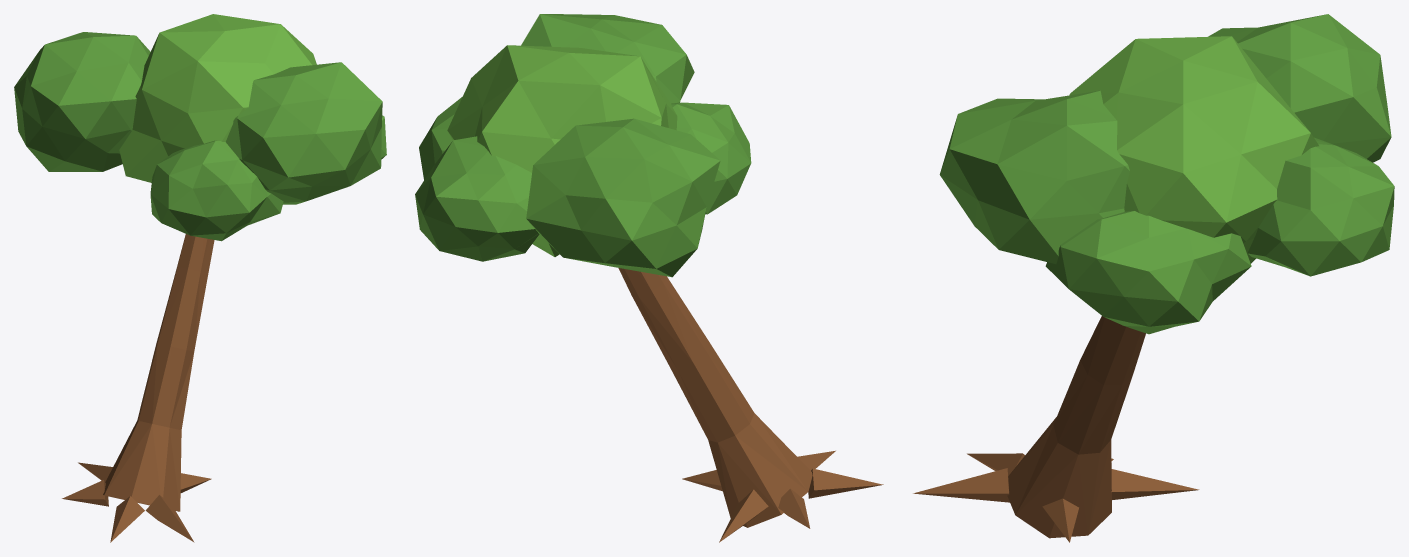
The model's file is HS_LP_Tree_Leaning_01.fbx.
3 renders of one model, left to right at view 1: azimuth 30°, elevation 25°; view 2: azimuth 150°, elevation 25°; view 3: azimuth 270°, elevation 25°, orthographic. The views are drawn at different scales.
Visible parts, largest first — view 1: HS_LP_Tree_Leaning_01; view 2: HS_LP_Tree_Leaning_01; view 3: HS_LP_Tree_Leaning_01.
Boxes of the visible parts, x1,y1,x2,y2 form: HS_LP_Tree_Leaning_01: (14,14,386,542); HS_LP_Tree_Leaning_01: (415,14,883,542); HS_LP_Tree_Leaning_01: (913,14,1394,542).
Size of the model in its own units: 368 by 441 by 355.
